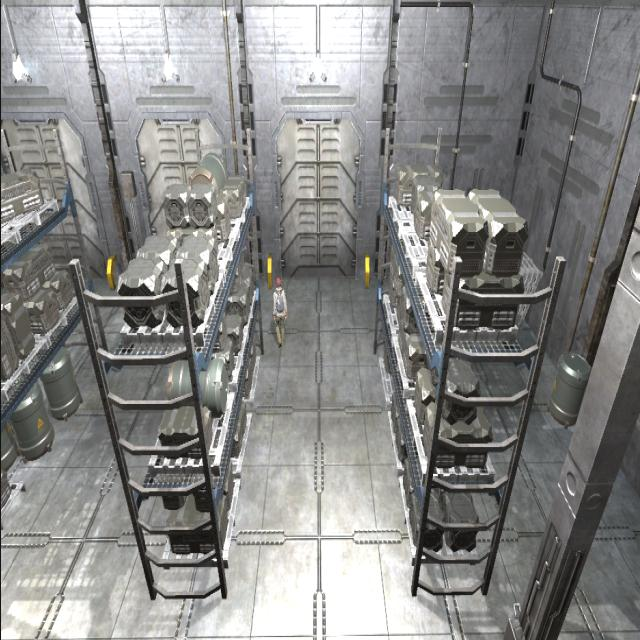thiefs: (272, 276, 288, 349)
